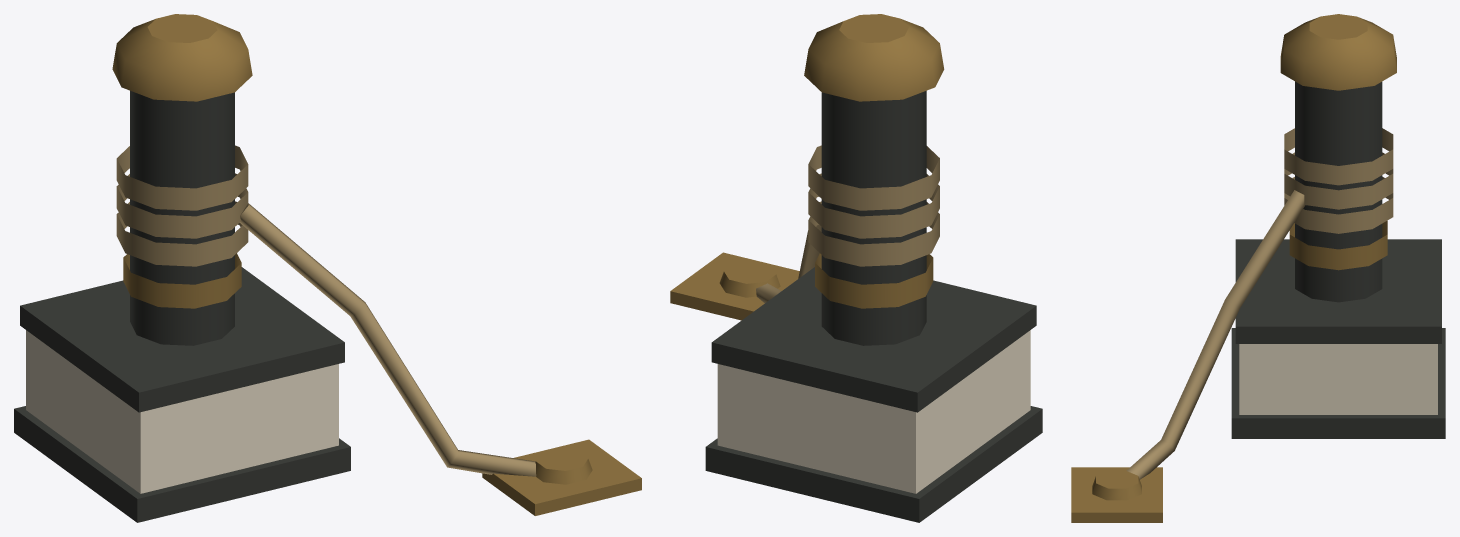
The model's file is bollard.glb.
3 views of the same model, side by side, from view 1: azimuth 30°, elevation 25°; view 2: azimuth 150°, elevation 25°; view 3: azimuth 270°, elevation 25° (orthographic). The views are drawn at different scales.
Parts seen in each view (by area): view 1: bollard; view 2: bollard; view 3: bollard.
Part boxes in pixels (<box>): bollard: <box>14,14,641,522</box>; bollard: <box>670,14,1042,522</box>; bollard: <box>1071,14,1445,522</box>.
Bounding box in the file's own units: 1.08 × 1.06 × 0.98.
